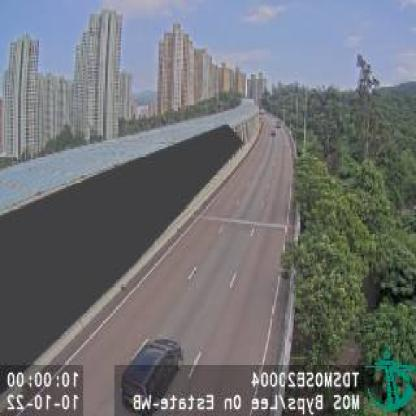Car: (117, 334, 183, 415)
